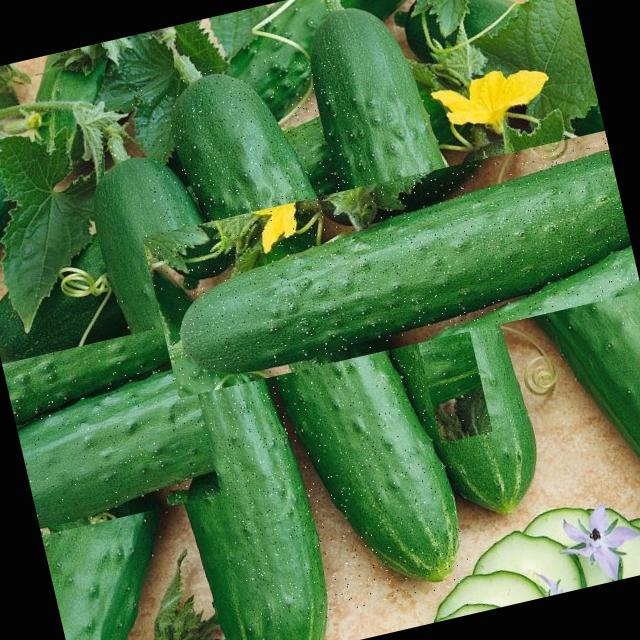Cucumber: (150, 144, 636, 386), (266, 336, 470, 604), (161, 370, 341, 640), (156, 56, 329, 275), (295, 0, 454, 215), (80, 142, 230, 357)
